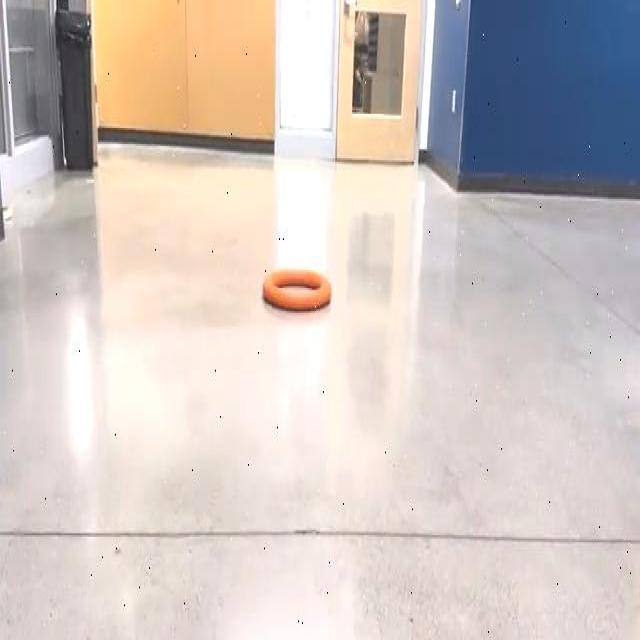note: (262, 269, 331, 310)
